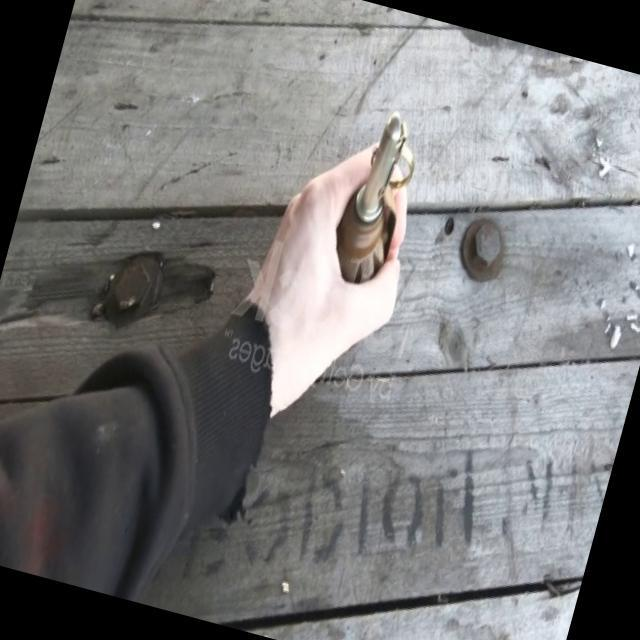grenade: (325, 106, 420, 292)
